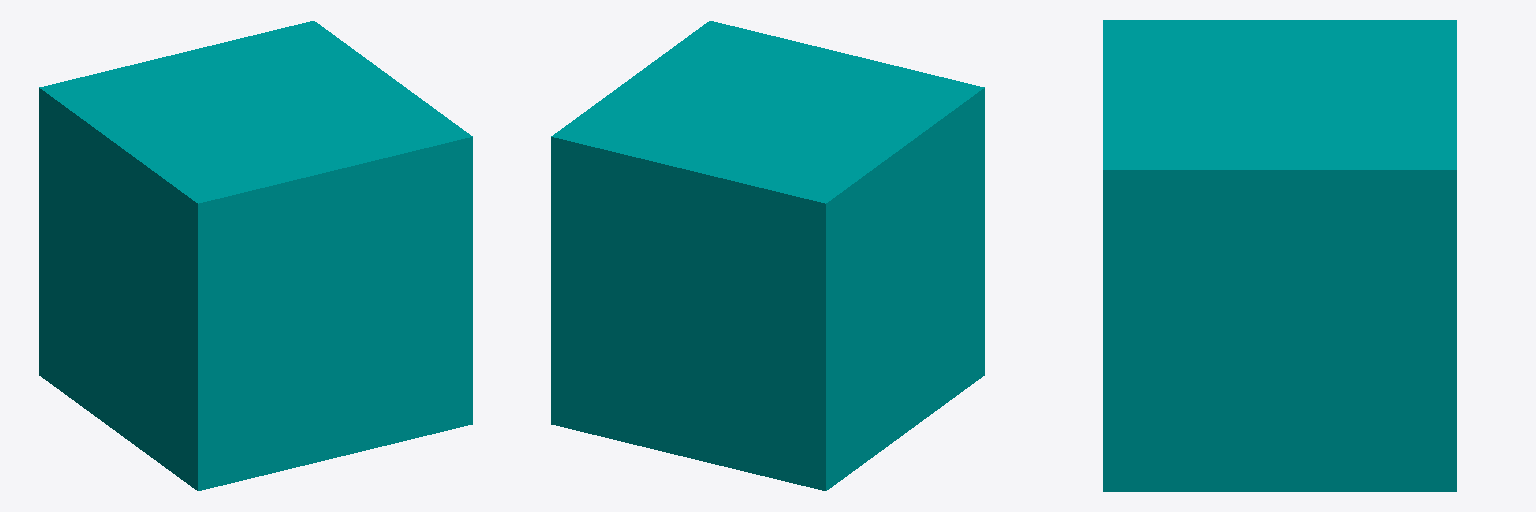
robot.urdf — cube:
<?xml version="1.0" ?>
<robot name="cube">
    <material name="red">
        <color rgba="0.69 0.09 0.12 1"/>
    </material>
    <material name="green">
        <color rgba="0.0 0.69 0.2 1"/>
    </material>
    <material name="blue">
        <color rgba="0.1 0.1 0.69 1"/>
    </material>
    <material name="yellow">
        <color rgba="0.8 0.8 0.0 1"/>
    </material>
    <material name="purple">
        <color rgba="0.69 0.1 0.69 1"/>
    </material>
    <material name="cyan">
        <color rgba="0.0 0.69 0.69 1"/>
    </material>
    <material name="orange">
        <color rgba="0.95 0.5 0.2 1"/>
    </material>
    <material name="pink">
        <color rgba="1 0.75 0.8 1"/>
    </material>

    <link name="cube_link">
        <contact>
          <lateral_friction value="1"/>
          <rolling_friction value="1"/>
          <spinning_friction value="1"/>

          <inertia_scaling value="0.5"/>
        </contact>
        <inertial>
          <origin rpy="0 0 0" xyz="0 0 0"/>
           <mass value="3"/>
           <inertia ixx="0.0" ixy="0.0" ixz="0.0" iyy="0.0" iyz="0.0" izz="0.0"/>
        </inertial>
        <visual>
          <origin rpy="0 0 0" xyz="0 0 0"/>
          <geometry>
            <box size=".06 .06 .06"/>
          </geometry>
          <material name="cyan" />
        </visual>
        <collision>
          <origin rpy="0 0 0" xyz="0 0 0"/>
          <geometry>
            <box size=".06 .06 .06"/>
          </geometry>
        </collision>
    </link>

</robot>

--- Facts derived from the render (not from the file) ---
3 views of the same robot in one strip: view 1: azimuth 30°, elevation 25°; view 2: azimuth 150°, elevation 25°; view 3: azimuth 270°, elevation 25° (orthographic).
Model cube with 1 links and 0 joints (none), rooted at cube_link, posed all joints at 0.
Links seen in each view (by area): view 1: cube_link; view 2: cube_link; view 3: cube_link.
Boxes of the visible links, x1,y1,x2,y2 form: cube_link: (39,21,472,490); cube_link: (551,21,984,490); cube_link: (1103,20,1456,491).
Bounding box of the posed robot: 0.06 × 0.06 × 0.06 m (x, y, z).
Geometry: primitives only (box / cylinder / sphere), no mesh files.